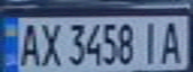3: (63, 20, 87, 66)
4: (81, 20, 103, 66)
5: (100, 20, 121, 65)
8: (115, 20, 139, 65)
A: (157, 18, 187, 65), (15, 19, 42, 67)
I: (136, 19, 163, 65)
X: (36, 19, 63, 67)
